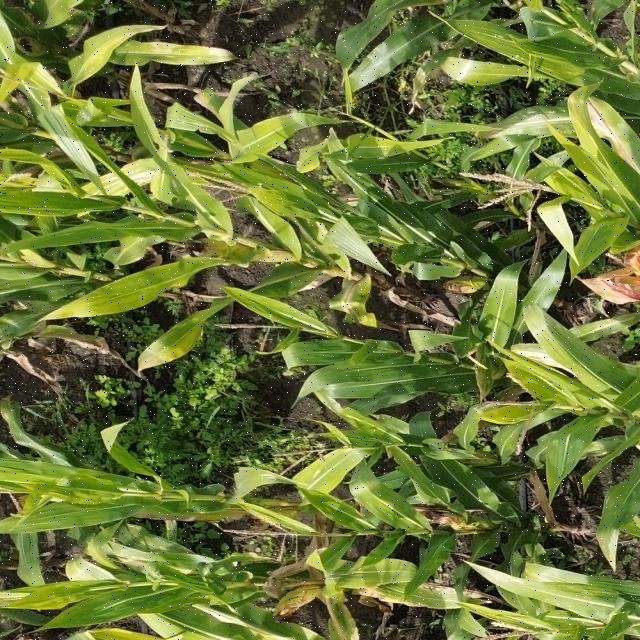gray-leaf-spot: (490, 28, 554, 68), (109, 591, 203, 618), (136, 38, 222, 66), (599, 488, 634, 544), (378, 375, 463, 398), (509, 104, 570, 136), (94, 172, 162, 200), (14, 512, 90, 532), (240, 469, 296, 494), (128, 527, 177, 554), (588, 433, 628, 459), (446, 608, 469, 640)
northern-leaf-blight: (584, 103, 640, 166), (334, 278, 379, 329)
southern-leaf-blight: (564, 580, 628, 603), (401, 586, 453, 606)
